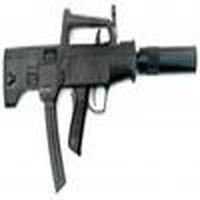gun: (1, 12, 200, 125)
